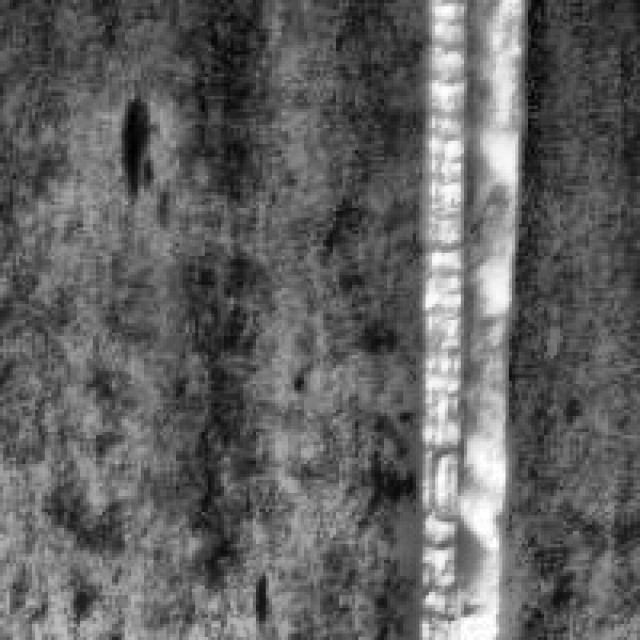Inclusion: (406, 0, 528, 634)
Patches: (109, 86, 160, 198)
